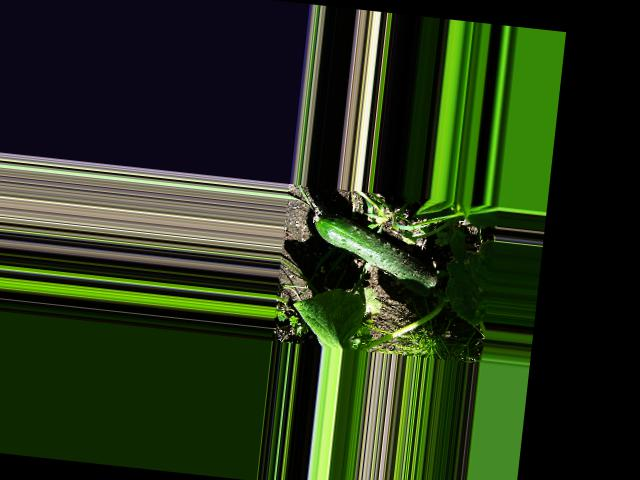cucumber: (306, 211, 446, 298)
